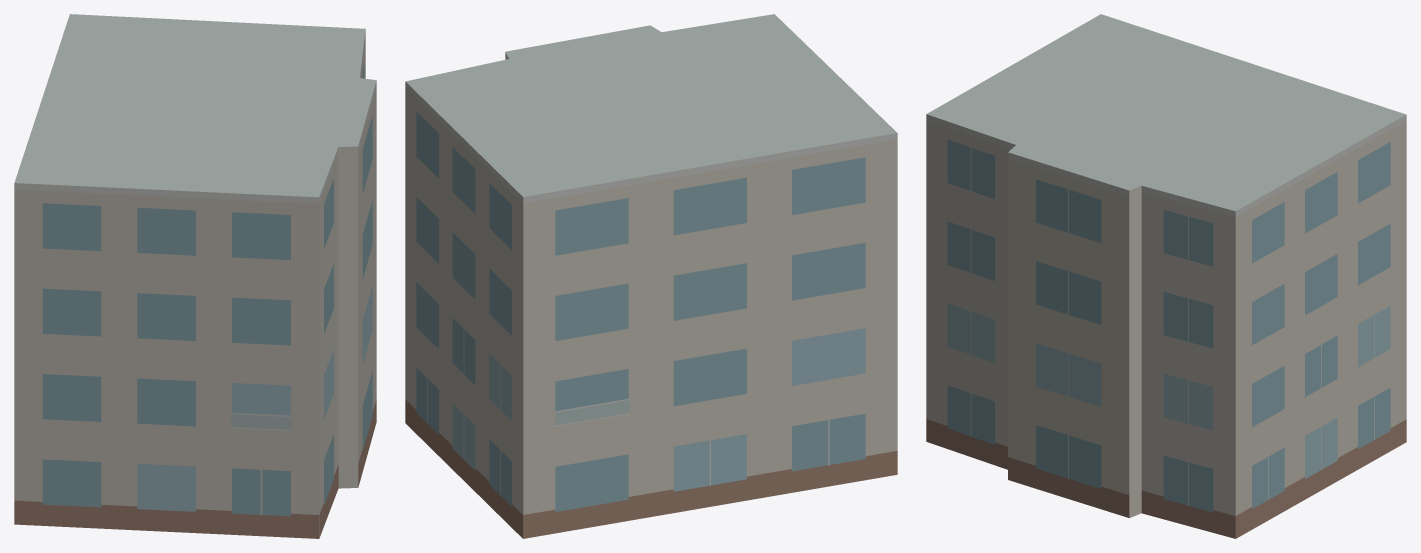
The model's file is survey-upis-32631388.glb.
3 renders of one model, left to right at view 1: azimuth 30°, elevation 25°; view 2: azimuth 150°, elevation 25°; view 3: azimuth 270°, elevation 25°, orthographic. The views are drawn at different scales.
Parts seen in each view (by area): view 1: survey-upis-32631388.tmp; view 2: survey-upis-32631388.tmp; view 3: survey-upis-32631388.tmp.
Part boxes in pixels (box(x1,y1,x2,y2)): survey-upis-32631388.tmp: box(14, 14, 376, 538); survey-upis-32631388.tmp: box(405, 14, 897, 538); survey-upis-32631388.tmp: box(926, 14, 1406, 538).
Bounding box in the file's own units: 16.54 × 12.8 × 17.01.
